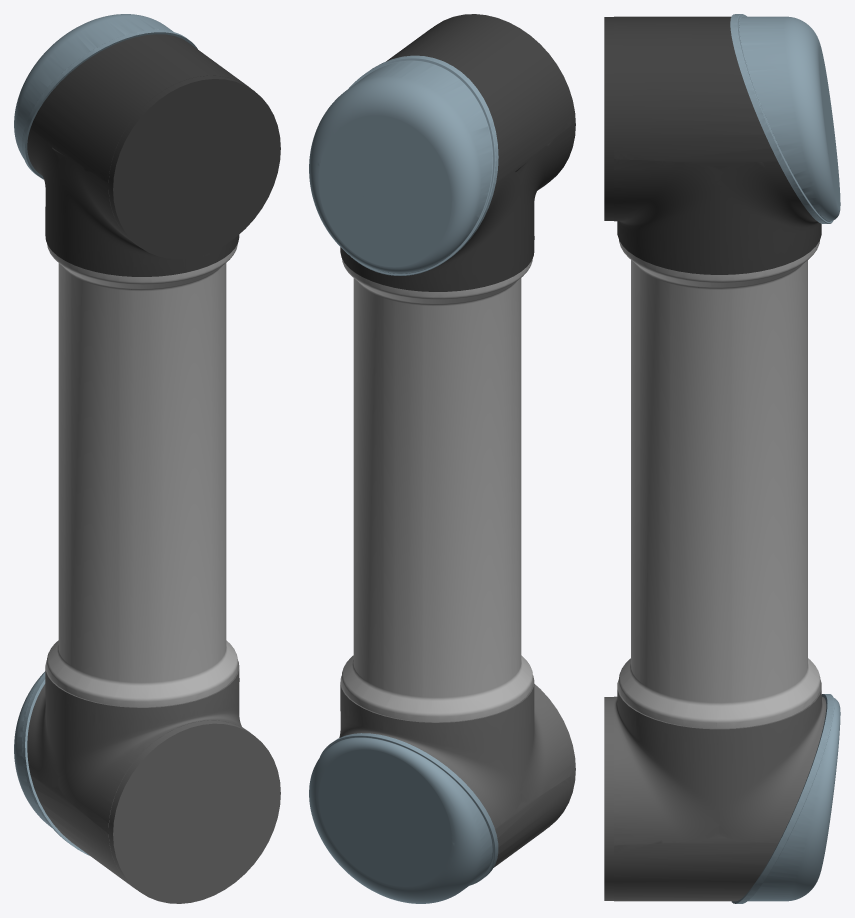
Rendered from upperarm.dae.
3 views of the same model, side by side, from view 1: azimuth 30°, elevation 25°; view 2: azimuth 150°, elevation 25°; view 3: azimuth 270°, elevation 25° (orthographic). The views are drawn at different scales.
Visible parts, largest first — view 1: Actor3, Actor2, Actor0, Actor1, Actor4; view 2: Actor3, Actor1, Actor4, Actor2, Actor0; view 3: Actor3, Actor2, Actor0, Actor1, Actor4.
Part boxes in pixels (left/top/right/bottom): Actor3: left=46, top=243, right=237, bottom=707; Actor2: left=27, top=34, right=280, bottom=276; Actor0: left=27, top=661, right=280, bottom=903; Actor1: left=14, top=14, right=197, bottom=179; Actor4: left=14, top=671, right=89, bottom=855; Actor3: left=342, top=258, right=532, bottom=722; Actor1: left=309, top=55, right=498, bottom=275; Actor4: left=309, top=733, right=498, bottom=903; Actor2: left=340, top=14, right=575, bottom=291; Actor0: left=339, top=675, right=575, bottom=867; Actor3: left=618, top=240, right=820, bottom=728; Actor2: left=604, top=16, right=821, bottom=274; Actor0: left=604, top=679, right=826, bottom=901; Actor1: left=730, top=14, right=840, bottom=223; Actor4: left=731, top=694, right=840, bottom=903.
Size of the model in its own units: 0.119 by 0.1337 by 0.544.
